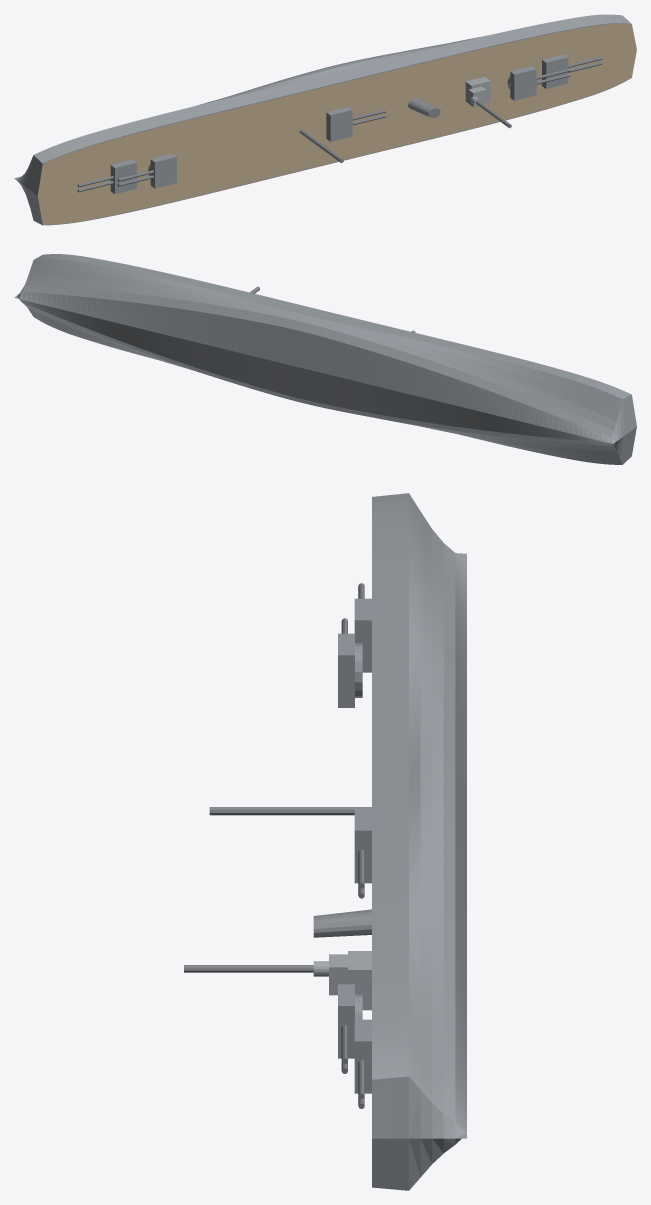
3 views of the same model, one above another, from view 1: azimuth 30°, elevation 25°; view 2: azimuth 150°, elevation 25°; view 3: azimuth 270°, elevation 25° (orthographic). The views are drawn at different scales.
Visible parts, largest first — view 1: A126; view 2: A126; view 3: A126.
Boxes of the visible parts, bbox=[...] form: A126: bbox=[14, 14, 636, 225]; A126: bbox=[14, 254, 636, 464]; A126: bbox=[184, 493, 466, 1190].
Size of the model in its own units: 227 by 31.26 by 46.46.
